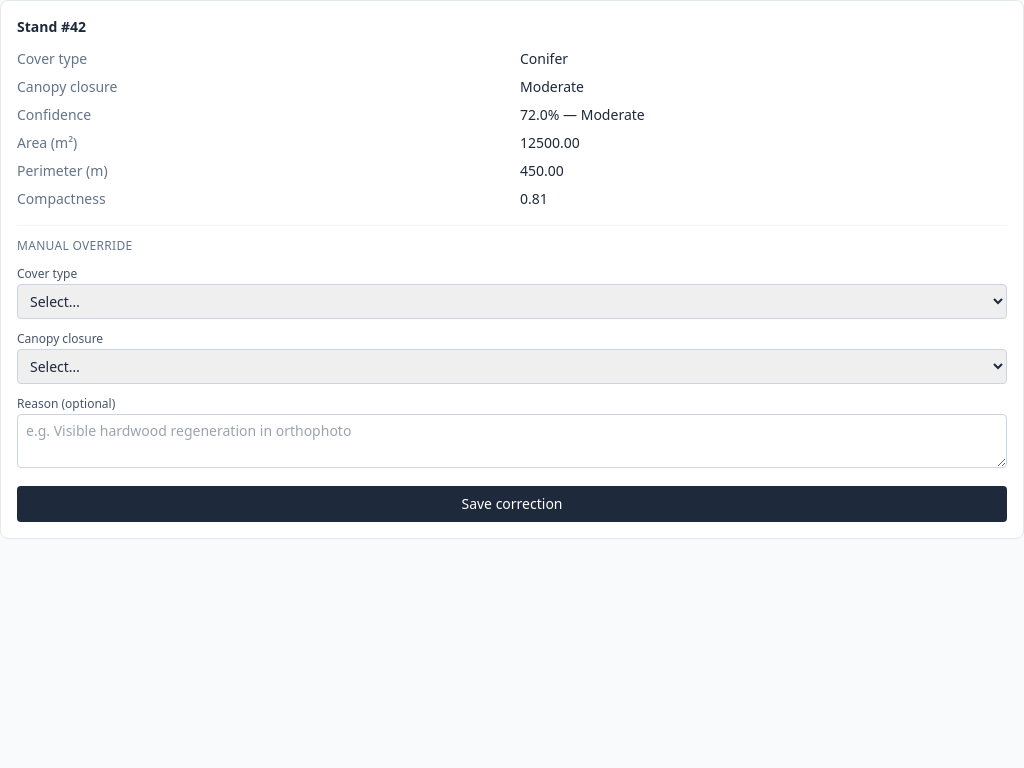
Test: SegmentPanel › submits override with selected values
Select "deciduous" in the dropdown with test id "override-cover-select" at coordinates (512, 302), box [17,284,1007,319]
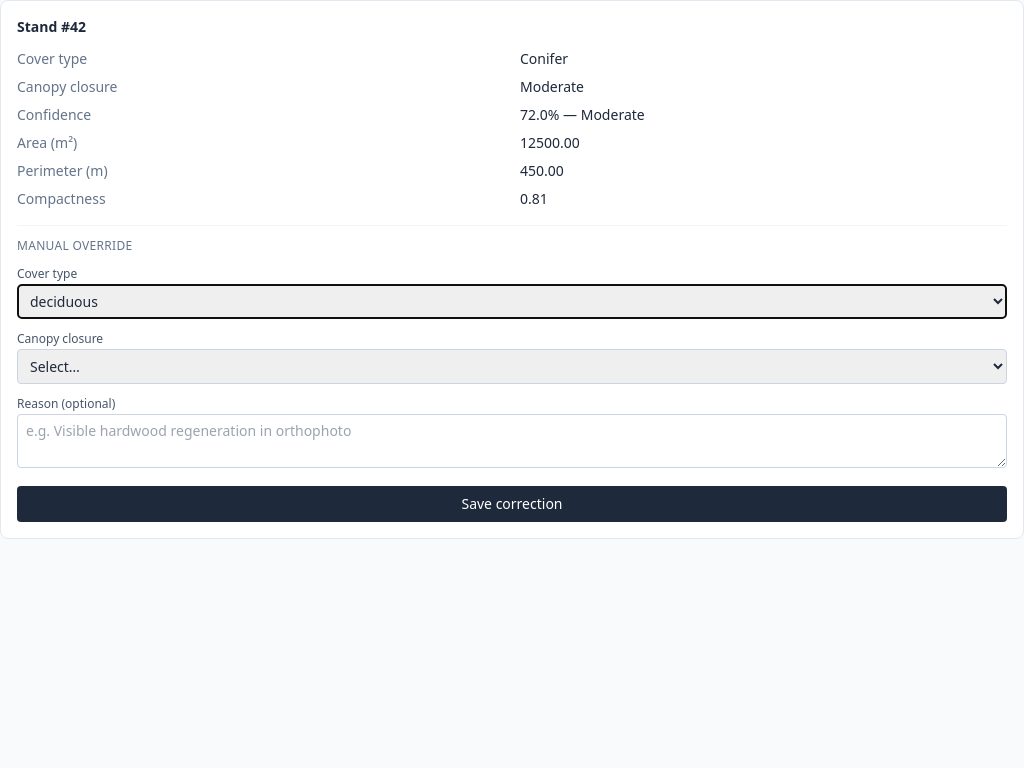
Select "dense" in the dropdown with test id "override-canopy-select" at coordinates (512, 366), box [17,349,1007,384]
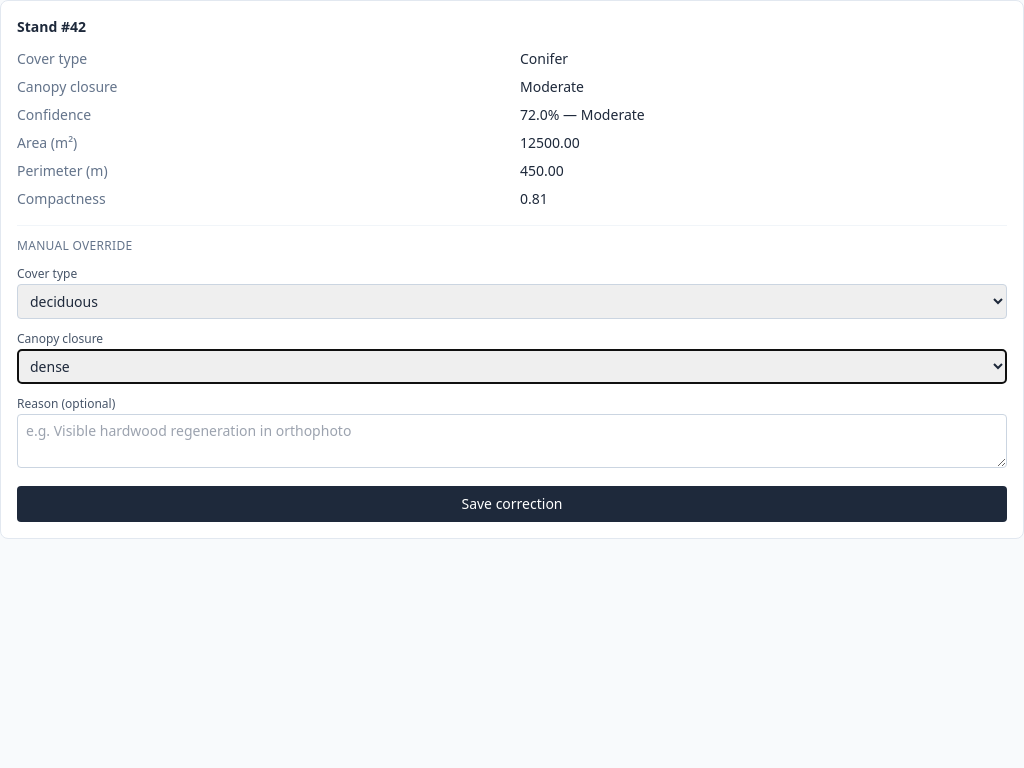
Type "Visible hardwood crown" into the text box with test id "override-reason" at coordinates (512, 441), box [17,414,1007,468]
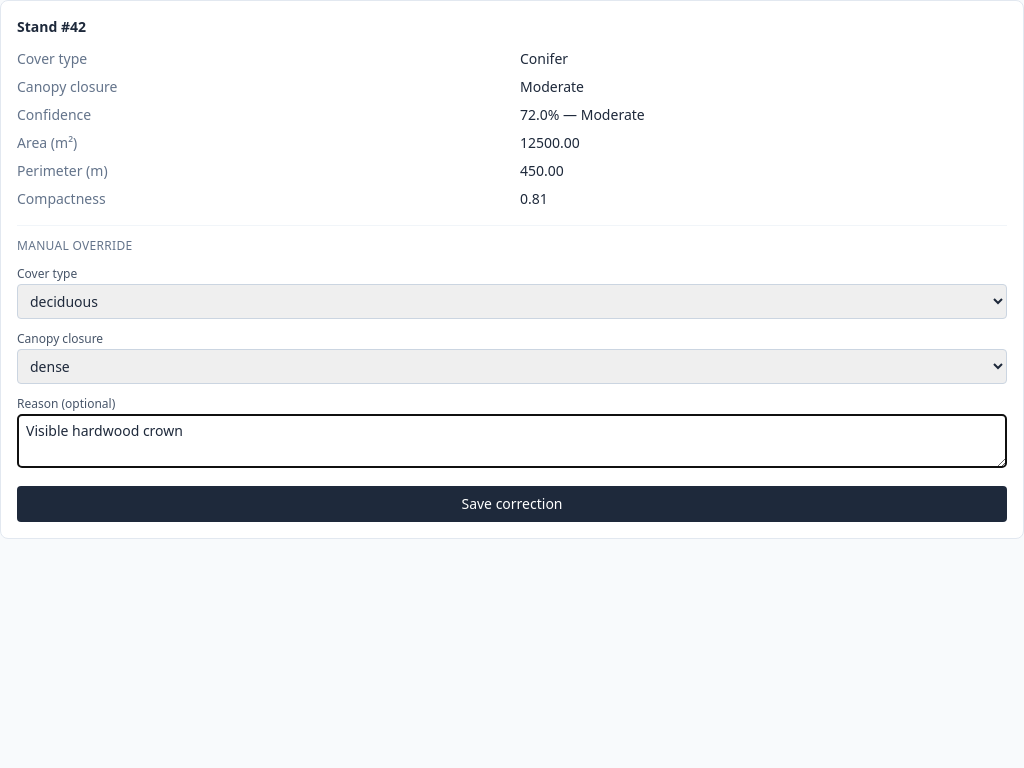
Click the button with test id "override-submit" at coordinates (512, 504), box [17,486,1007,522]
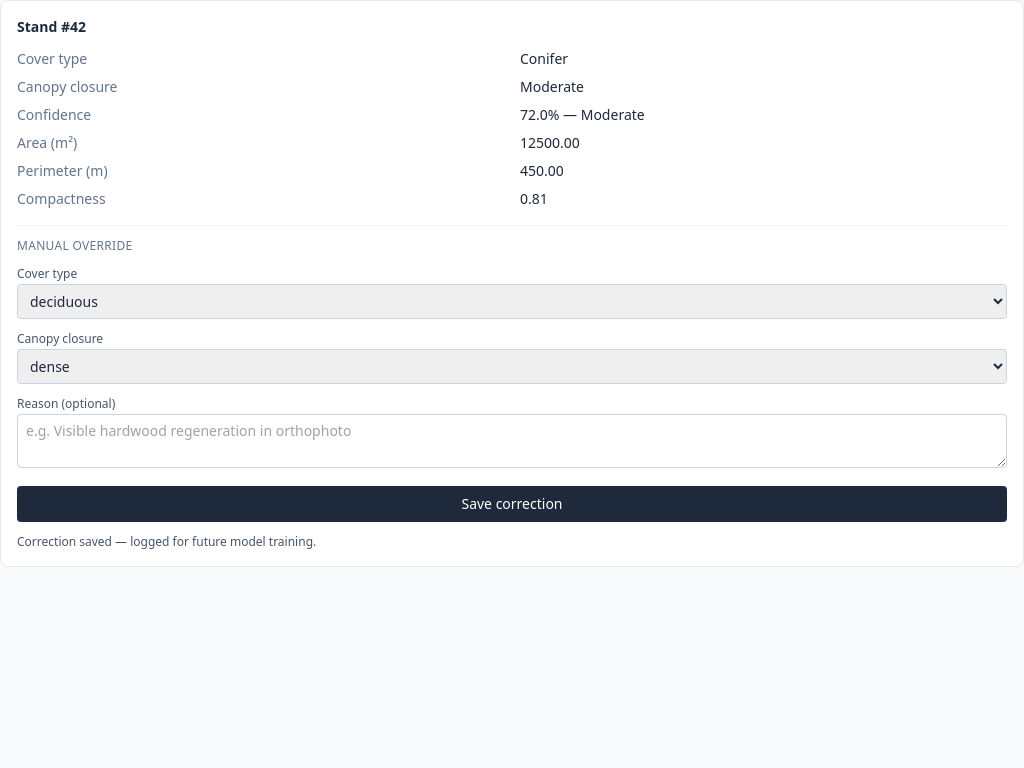
Check: the text with test id "override-message" shows "logged for future model training", box [17,533,316,550]
